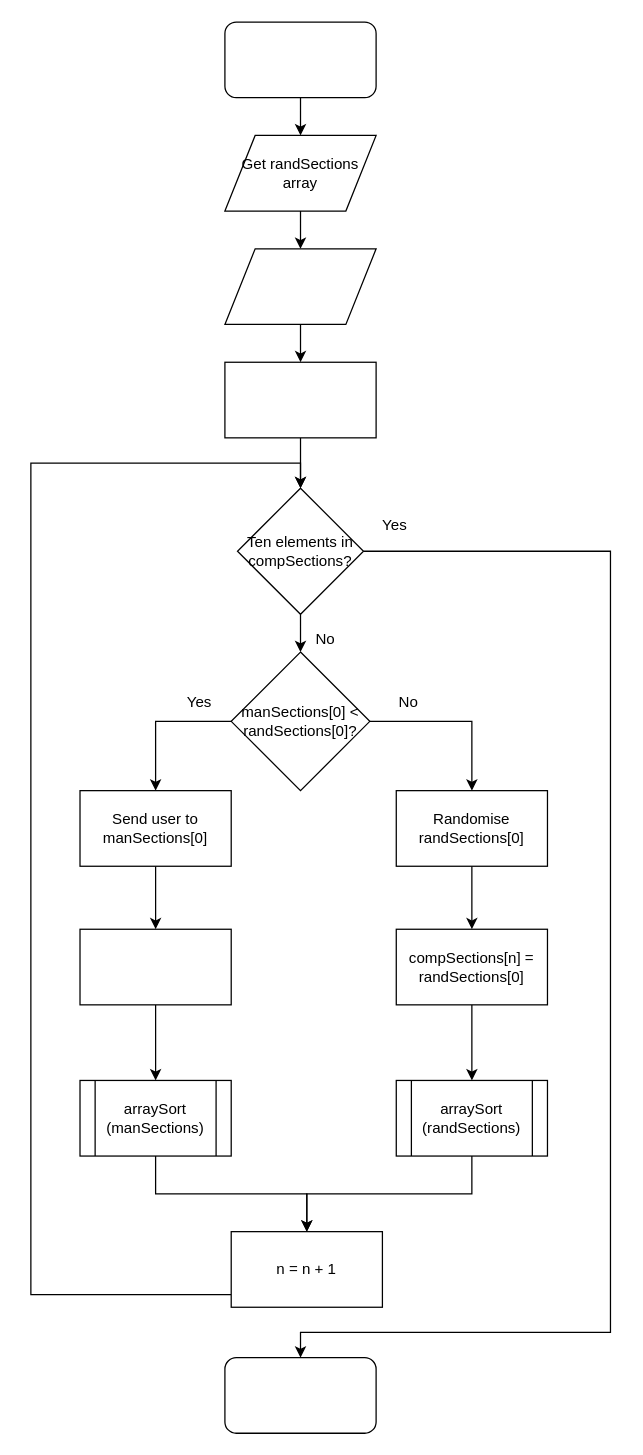
This 643x1455 diagram has some shape labels left out. Each missing label, with the centre of its shape:
"compSections[n] = manSections[0]" belongs at (155,966).
"END RandomSpecific" belongs at (300,1394).
"Get manSections array" belongs at (300,286).
"Set n = 0" belongs at (300,399).
"START RandomSpecific" belongs at (300,59).
